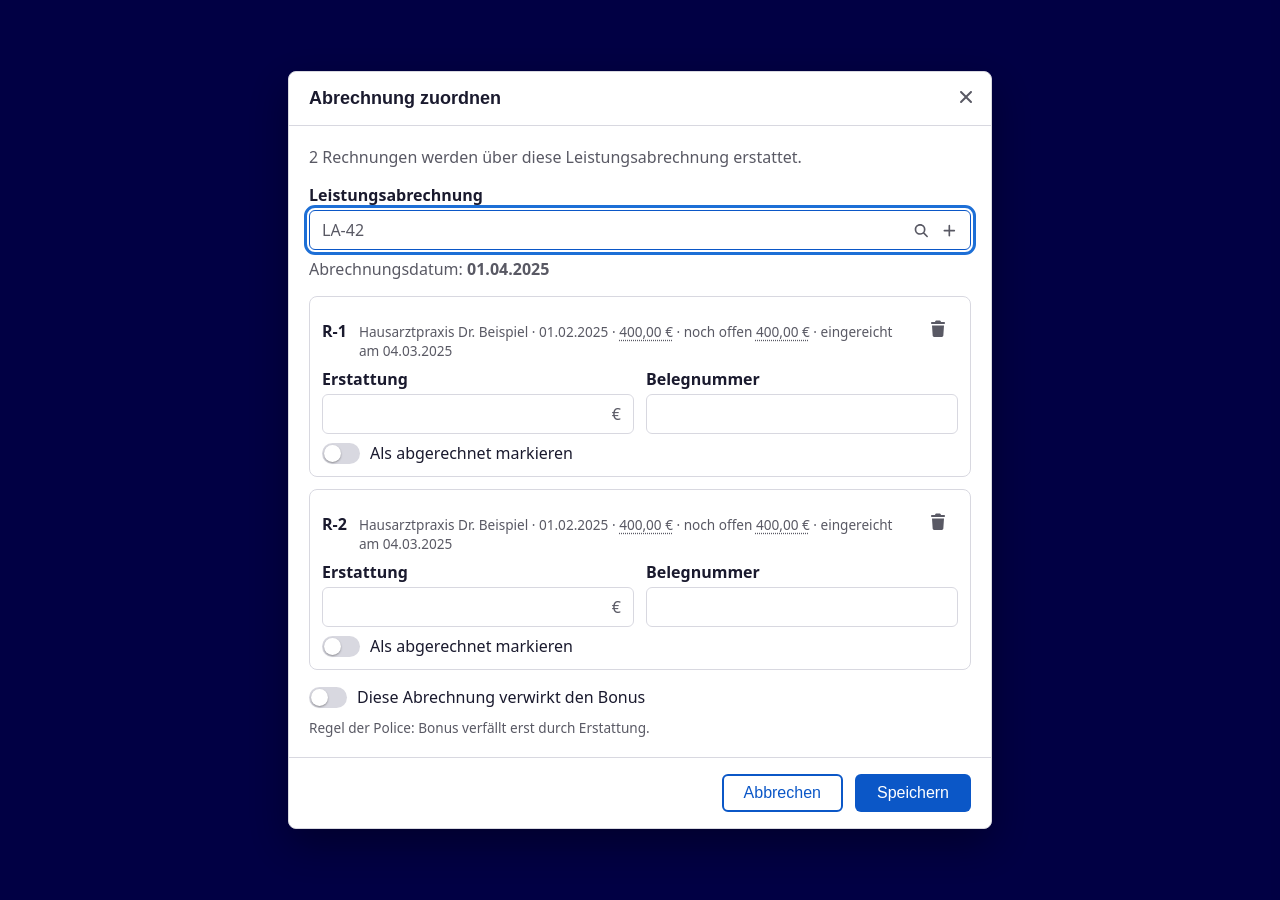
Test: BillingDialog with several invoices › asks for the missing amounts instead of sending an incomplete booking
Click the button "Speichern" at (913, 793), box [855,774,971,812]
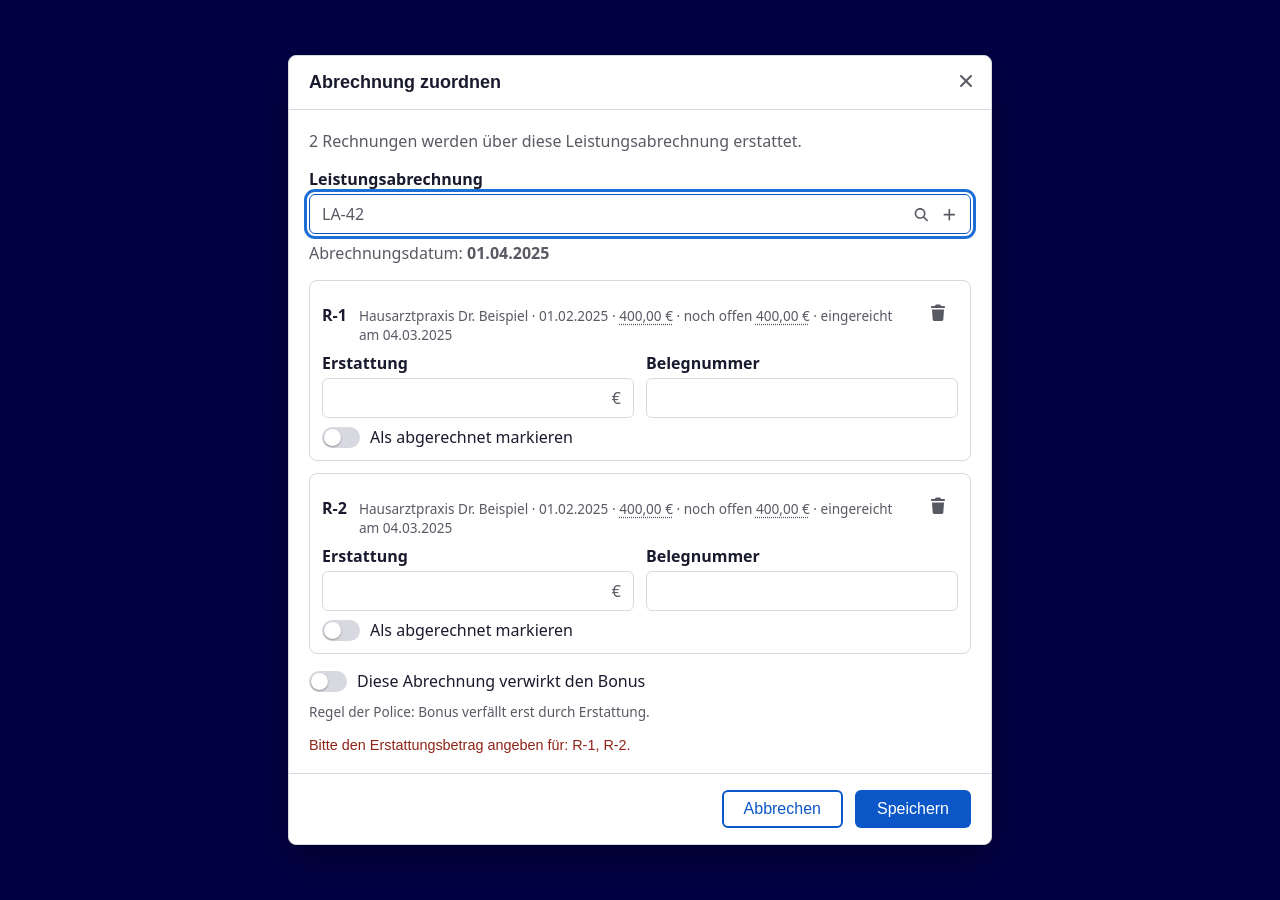
Check: the text "R-1, R-2" is shown, box [309,737,631,753]
